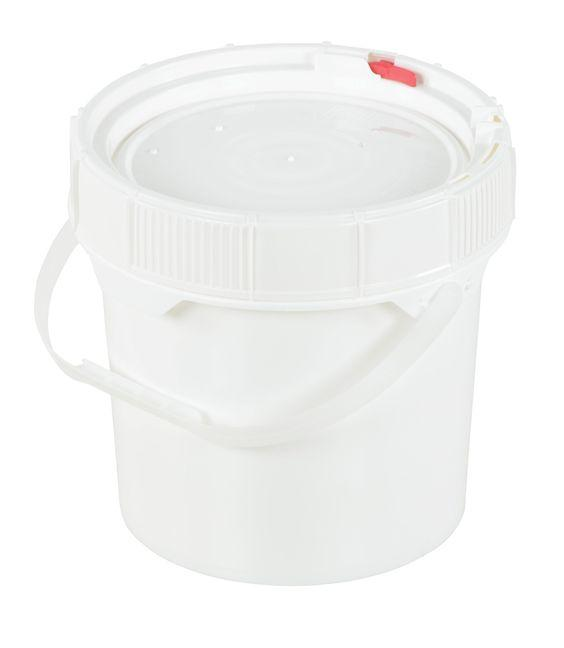HDPE: (0, 11, 564, 648)
